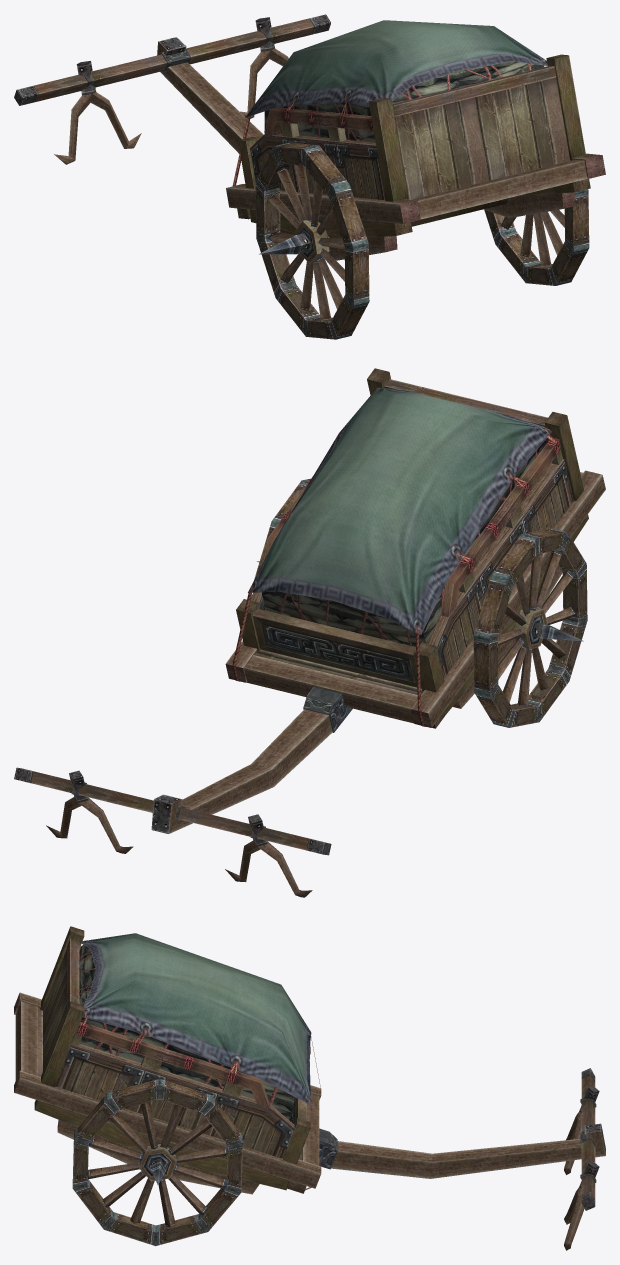
The model's file is zizhongche.FBX.
3 renders of one model, top to bottom at view 1: azimuth 30°, elevation 25°; view 2: azimuth 150°, elevation 25°; view 3: azimuth 270°, elevation 25°, orthographic. The views are drawn at different scales.
Visible parts, largest first — view 1: polySurface16864; view 2: polySurface16864; view 3: polySurface16864.
Boxes of the visible parts, x1,y1,x2,y2 form: polySurface16864: (14, 14, 605, 339); polySurface16864: (14, 368, 605, 897); polySurface16864: (14, 926, 605, 1250).
Bounding box in the file's own units: 4.72 × 3.94 × 8.52.
